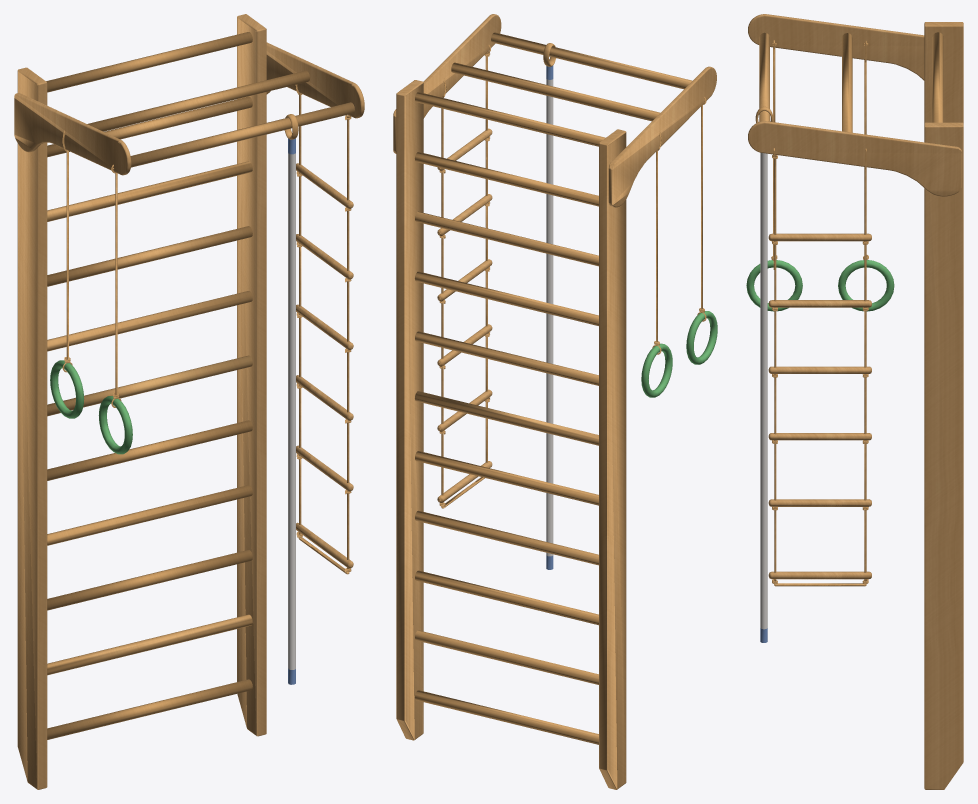
Rendered from spalliera-anelli.glb.
3 views of the same model, side by side, from view 1: azimuth 30°, elevation 25°; view 2: azimuth 150°, elevation 25°; view 3: azimuth 270°, elevation 25° (orthographic). The views are drawn at different scales.
Size of the model in its own units: 0.864 by 2.42 by 0.7114.
Materials: 6 (2 with a texture image).
